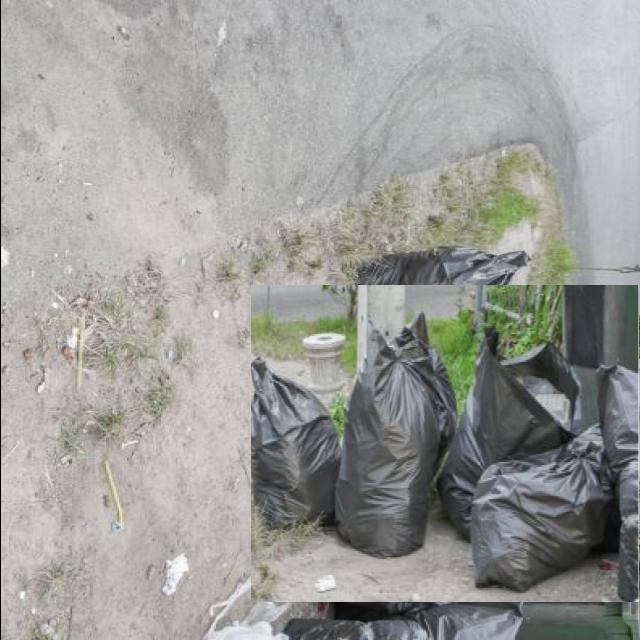Trashbag: (342, 324, 454, 550), (469, 443, 611, 578), (448, 347, 578, 457), (254, 370, 338, 526)
